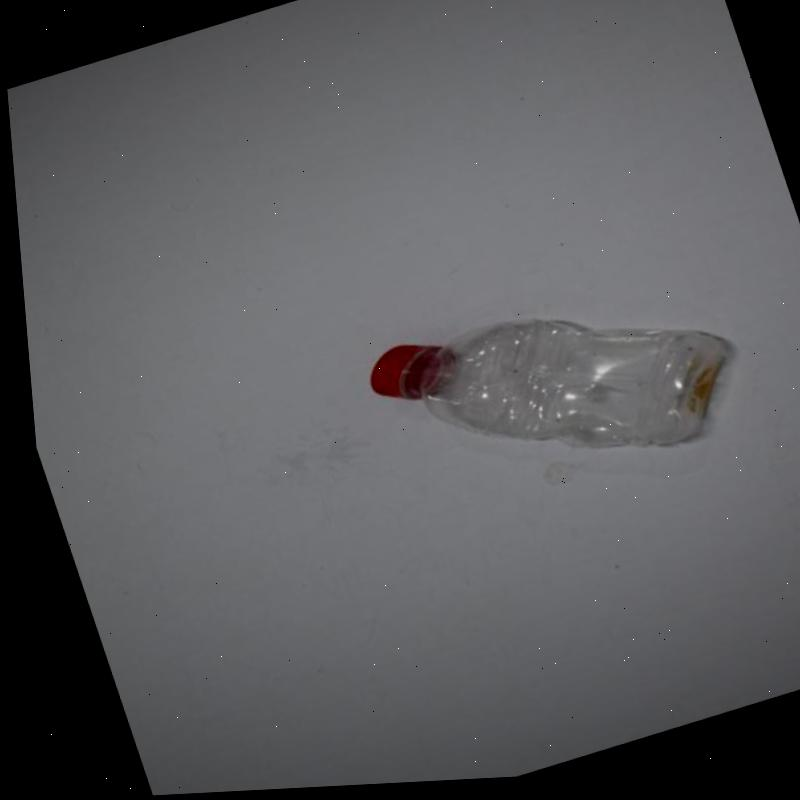botella: (348, 258, 752, 530)
